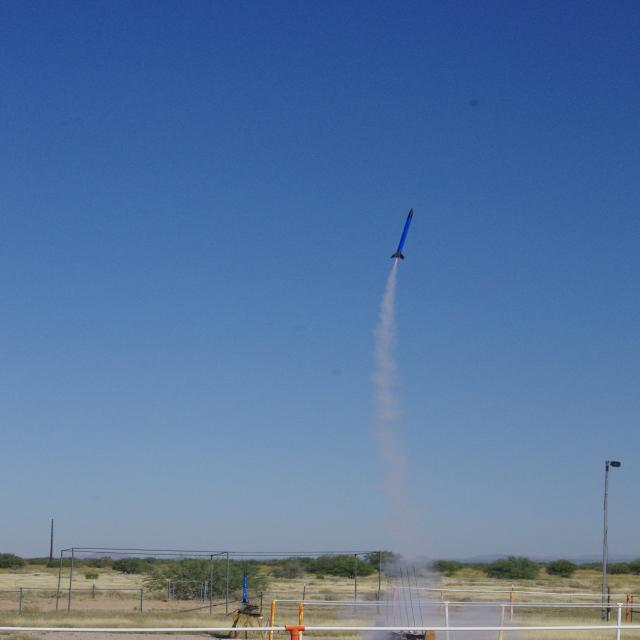Rocket: (391, 208, 414, 260), (239, 569, 250, 603)
